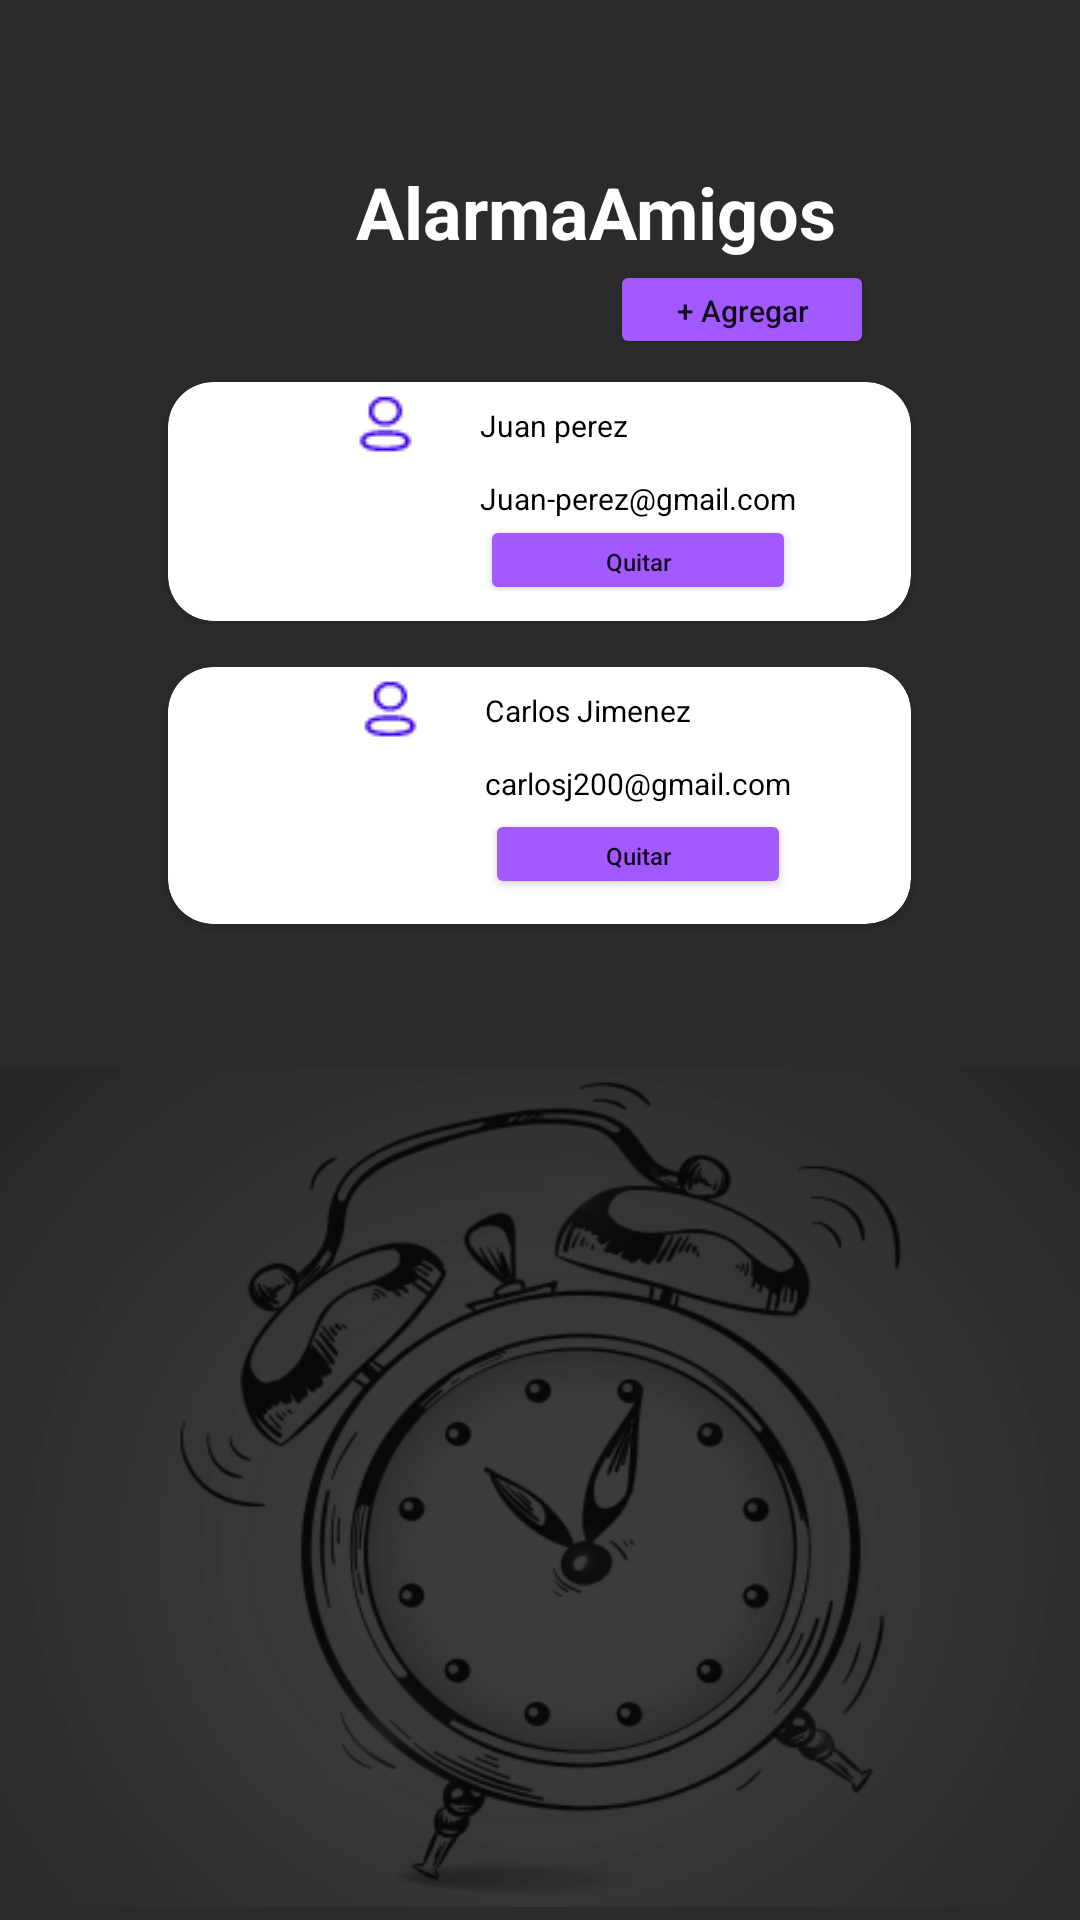

Icon bounding boxes for this 1080w x 1920h phone screenshot, format (x1, y1, x2, y2):
persona: (359, 396, 412, 452), (364, 681, 417, 737)
